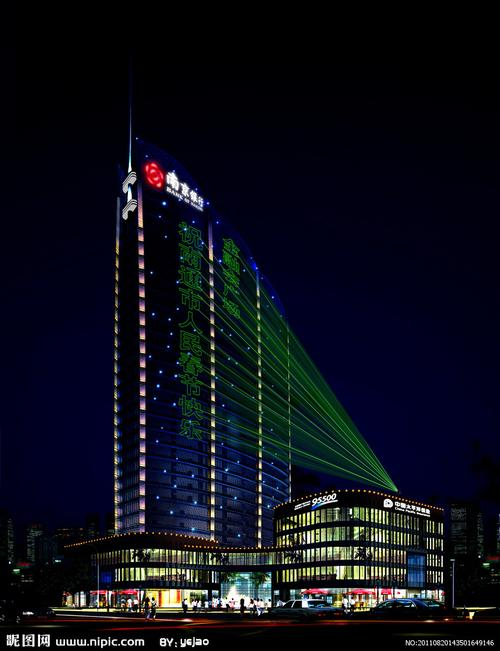buildings: (63, 159, 435, 620)
